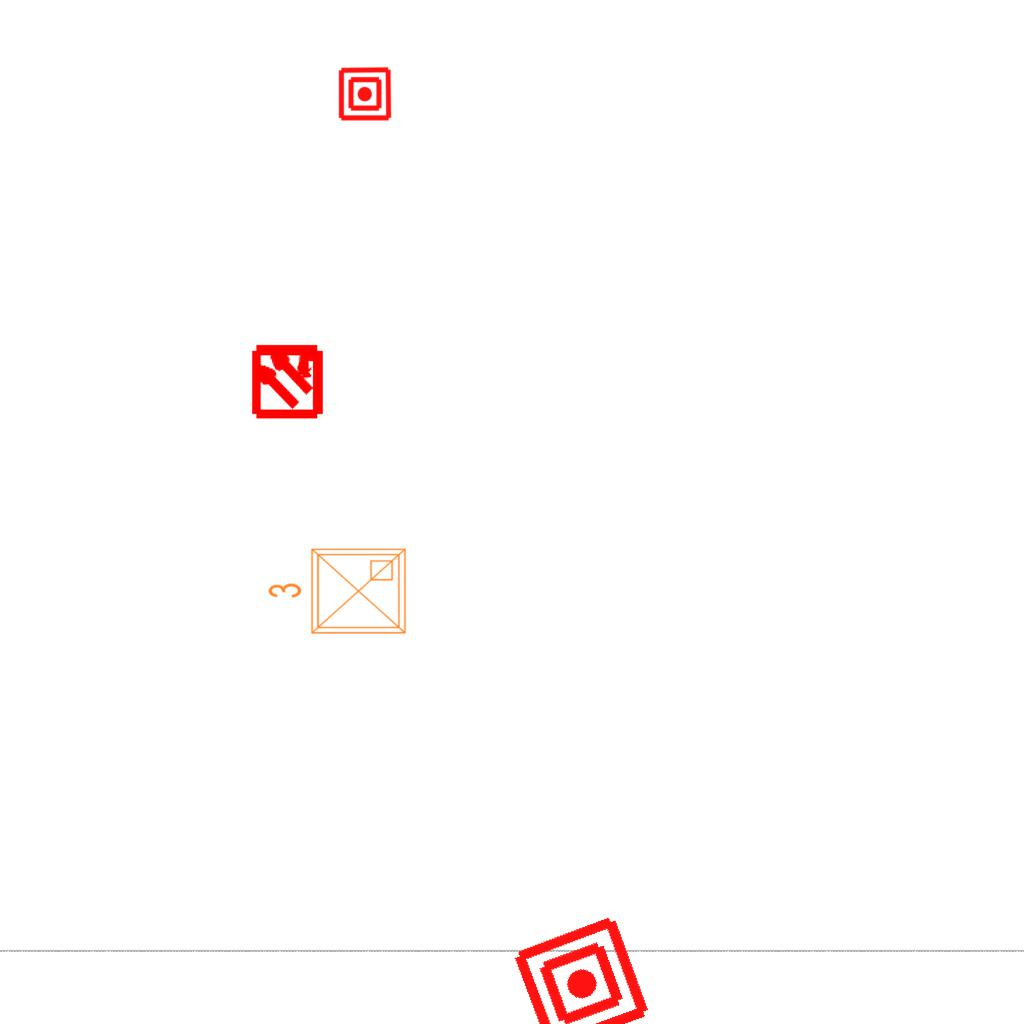Einbaudownlights_LED_Konferenzraeume: (263, 541, 413, 645)
NAM-Nichtautomatischer_Melder: (509, 911, 654, 1024), (337, 66, 393, 122)
OT_Multisensormelder_(Kombination_RMO_WMD): (231, 323, 344, 436)
